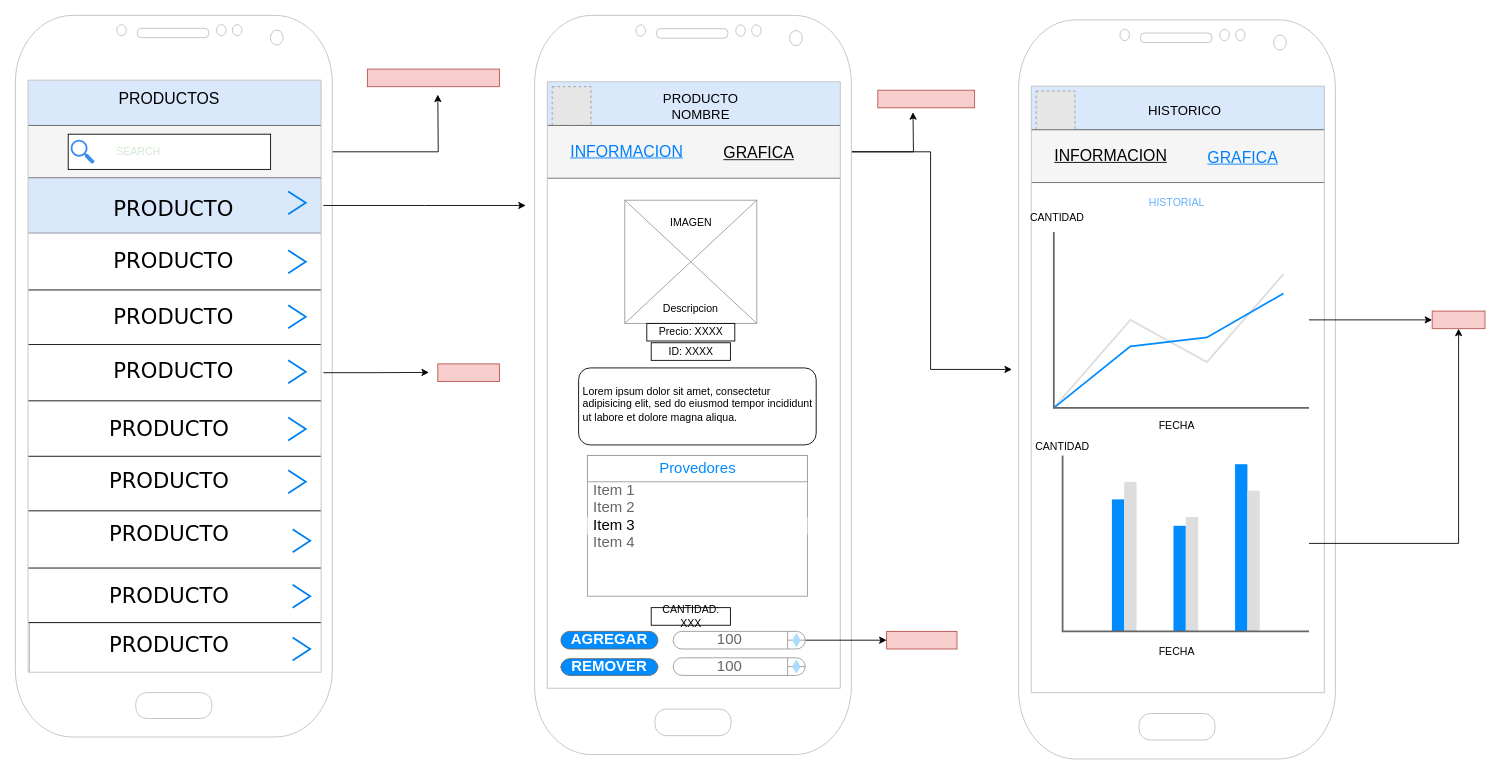
Some shapes in this 1500 by 774 pixel diagram are drawn without their labels. Grey dashed boxes stand in for pictures. Each missing label, with the centre of its shape:
Chart.js: point (1458, 319)
ionic INPUT: point (921, 640)
IONIC LIST: point (468, 372)
IONIC SEARCH BAR: point (433, 77)
IONIC SEGMENT: point (926, 98)
